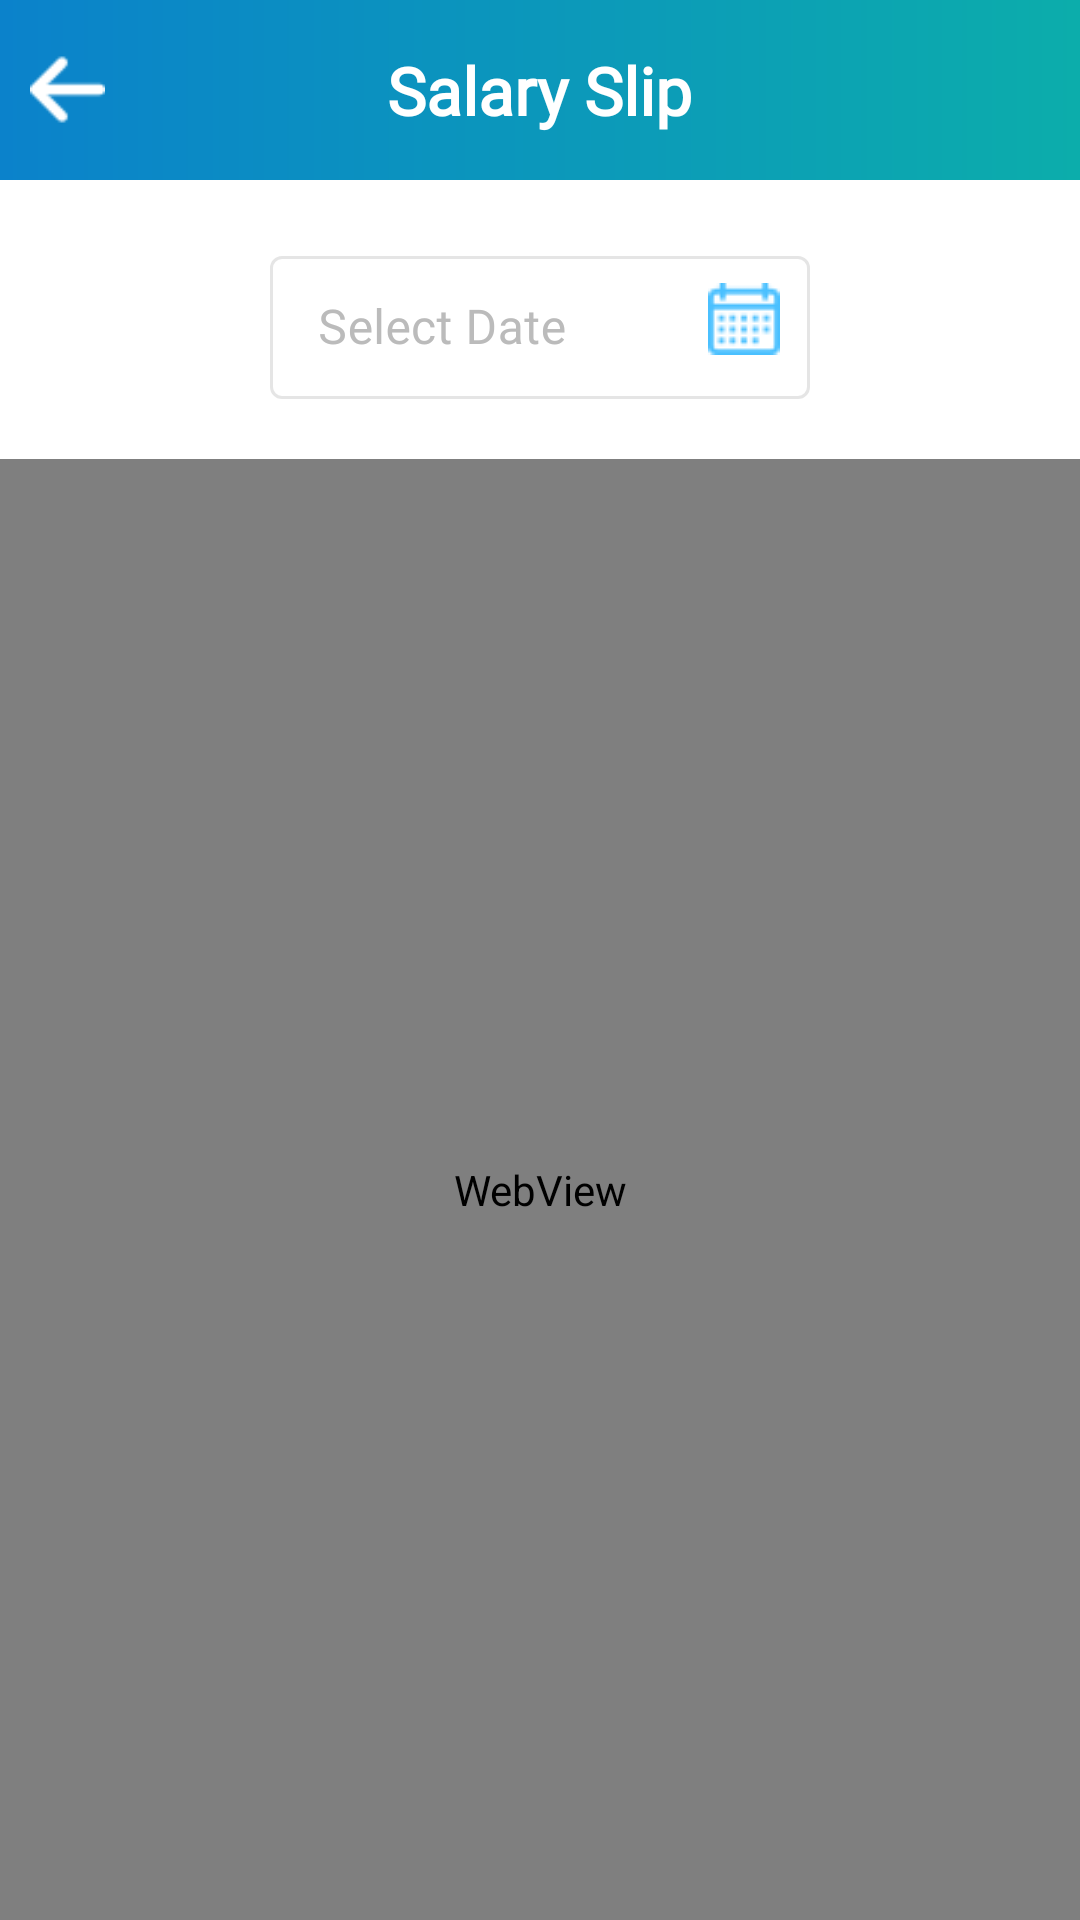

Icons on this 1080 x 1920 Android screen, each with its box as bbox=(x1, y1, x2, y2):
back arrow: bbox=(30, 56, 105, 123)
